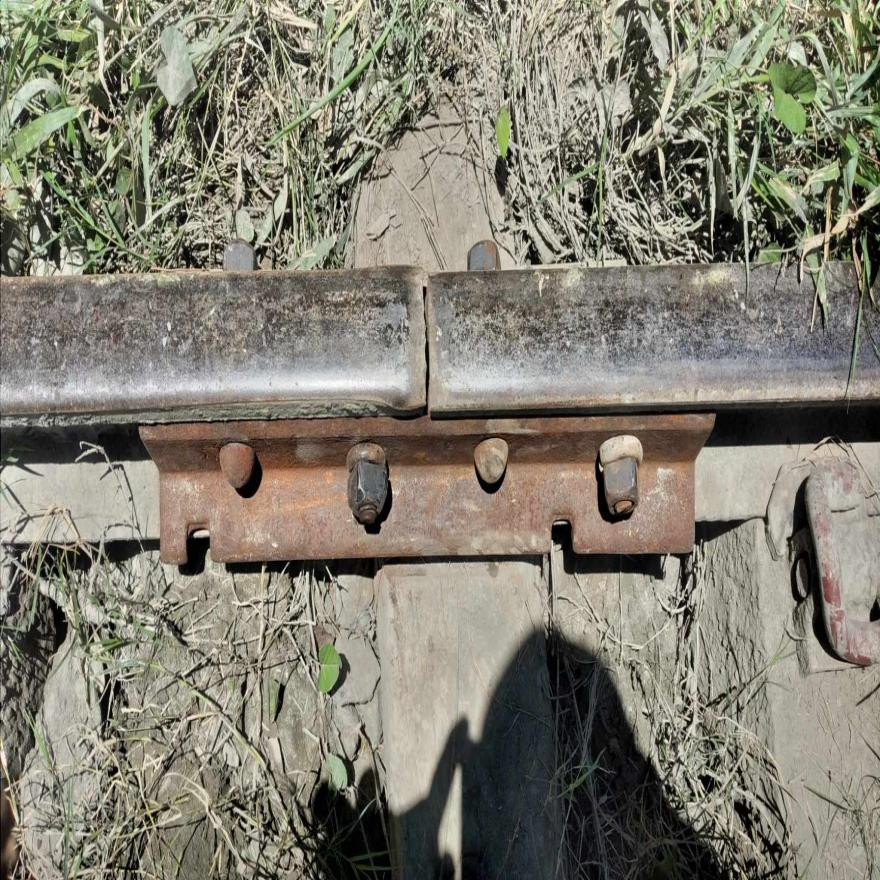railway-gap: (368, 222, 486, 446)
